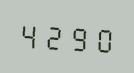four: (18, 17, 41, 51)
nine: (66, 20, 89, 54)
two: (42, 18, 65, 52)
zero: (90, 21, 113, 55)
